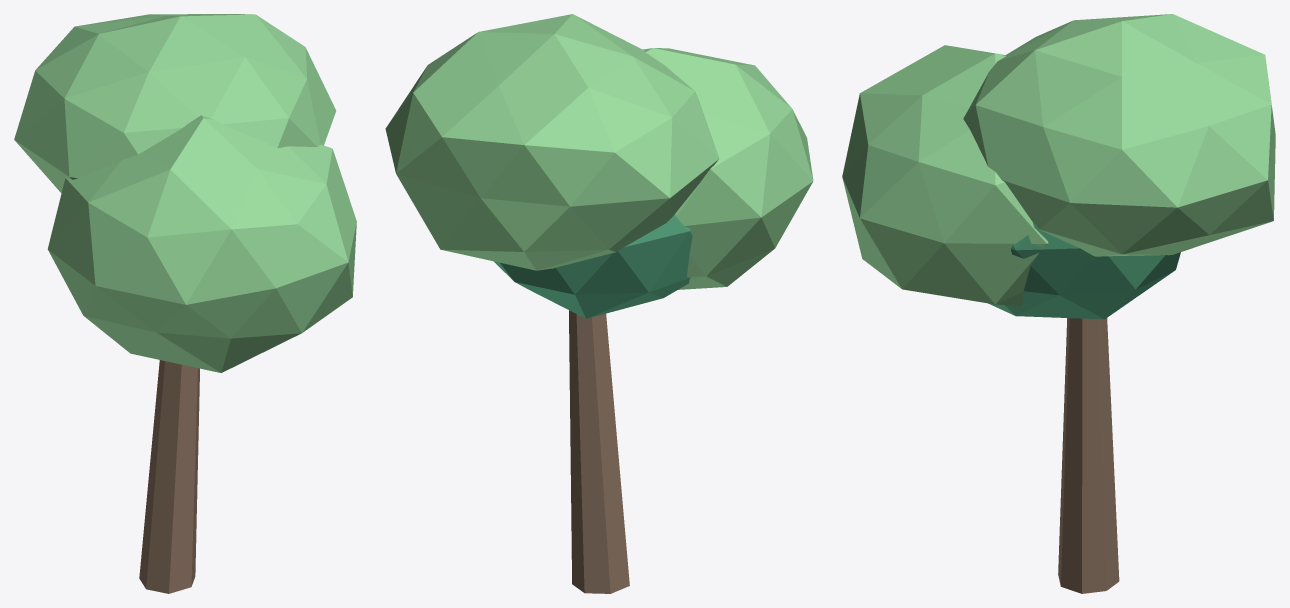
Rendered from Tree_Large_C.glb.
3 renders of one model, left to right at view 1: azimuth 30°, elevation 25°; view 2: azimuth 150°, elevation 25°; view 3: azimuth 270°, elevation 25°, orthographic. The views are drawn at different scales.
Parts seen in each view (by area): view 1: Tree_Large_C; view 2: Tree_Large_C; view 3: Tree_Large_C.
Boxes of the visible parts, x1,y1,x2,y2 form: Tree_Large_C: (14,14,356,593); Tree_Large_C: (385,14,813,593); Tree_Large_C: (842,14,1275,593).
Size of the model in its own units: 5.32 by 8.93 by 6.1.
